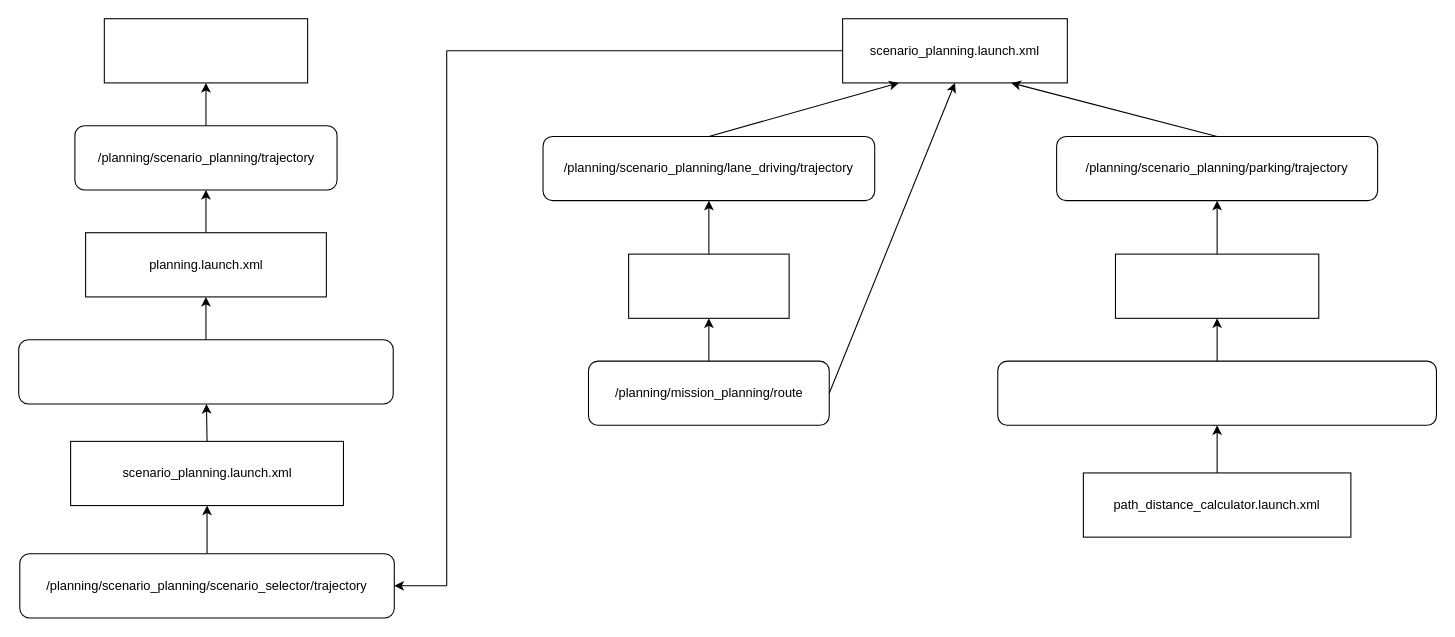
The diagram is 1455 pixels wide and 637 high, and some of its shapes have lost their labels. Each missing label, with the box of its shape:
/planning/scenario_planning/lane_driving/behavior_planning/path: (997, 360, 1436, 425)
/planning/scenario_planning/velocity_smoother/trajectory: (18, 339, 393, 404)
control.launch.xml controller #node: (103, 18, 308, 83)
motion_planning.launch.xml: (1114, 253, 1319, 318)
parking.launch.xml: (628, 253, 789, 318)
